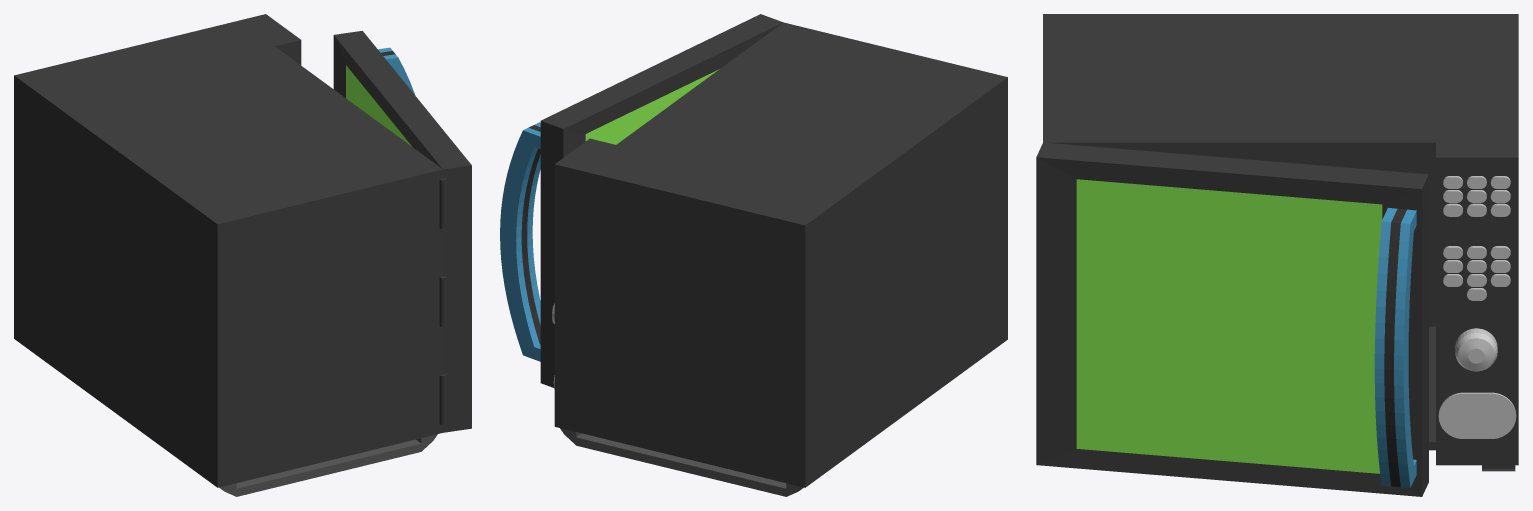
The model's file is MicroRave.obj.
3 views of the same model, side by side, from view 1: azimuth 30°, elevation 25°; view 2: azimuth 150°, elevation 25°; view 3: azimuth 270°, elevation 25° (orthographic). The views are drawn at different scales.
Parts seen in each view (by area): view 1: Cube_Cube.001, Cube.001_Cube.002, Cube.004_Cube.005, Cylinder; view 2: Cube_Cube.001, Cube.001_Cube.002, Cube.002_Cube, Cube.003_Cube.004; view 3: Cube.001_Cube.002, Cube_Cube.001, Cube.002_Cube, Circle, Circle.002, Circle.001, Circle.003.
Part boxes in pixels (x1,y1,x2,y2): Cube_Cube.001: (14,14,442,487); Cube.001_Cube.002: (333,30,471,432); Cube.004_Cube.005: (219,434,437,496); Cylinder: (439,178,446,424); Cube_Cube.001: (554,22,1007,487); Cube.001_Cube.002: (540,14,782,387); Cube.002_Cube: (500,122,540,361); Cube.003_Cube.004: (560,428,803,496); Cube.001_Cube.002: (1036,142,1428,496); Cube_Cube.001: (1043,14,1518,465); Cube.002_Cube: (1374,207,1416,487); Circle: (1438,392,1516,438); Circle.002: (1443,246,1510,300); Circle.001: (1443,176,1510,216); Circle.003: (1455,328,1497,371).
Bounding box in the file's own units: 0.9209 × 0.6891 × 0.9254.
